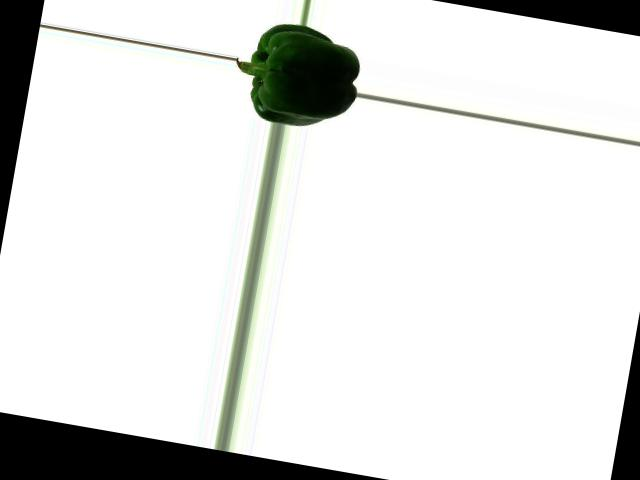bell_pepper: (229, 16, 367, 133)
